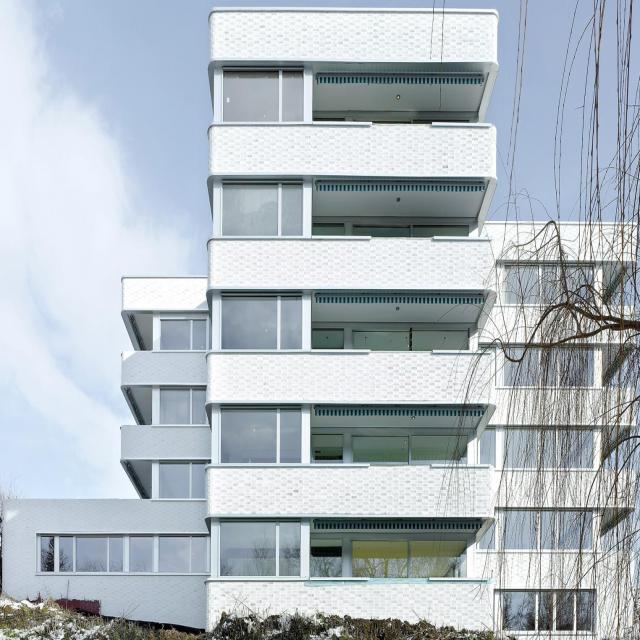wall: (2, 8, 638, 637)
windows: (40, 534, 207, 574), (311, 540, 467, 577), (478, 512, 594, 553), (311, 430, 468, 460), (219, 296, 303, 351), (220, 521, 300, 576), (221, 408, 301, 463), (481, 429, 596, 466), (222, 182, 304, 233), (504, 263, 594, 308), (224, 67, 306, 116), (313, 327, 472, 352), (501, 594, 593, 634), (503, 348, 593, 385), (312, 220, 473, 238), (160, 387, 207, 425), (159, 464, 205, 500), (160, 318, 208, 351)
